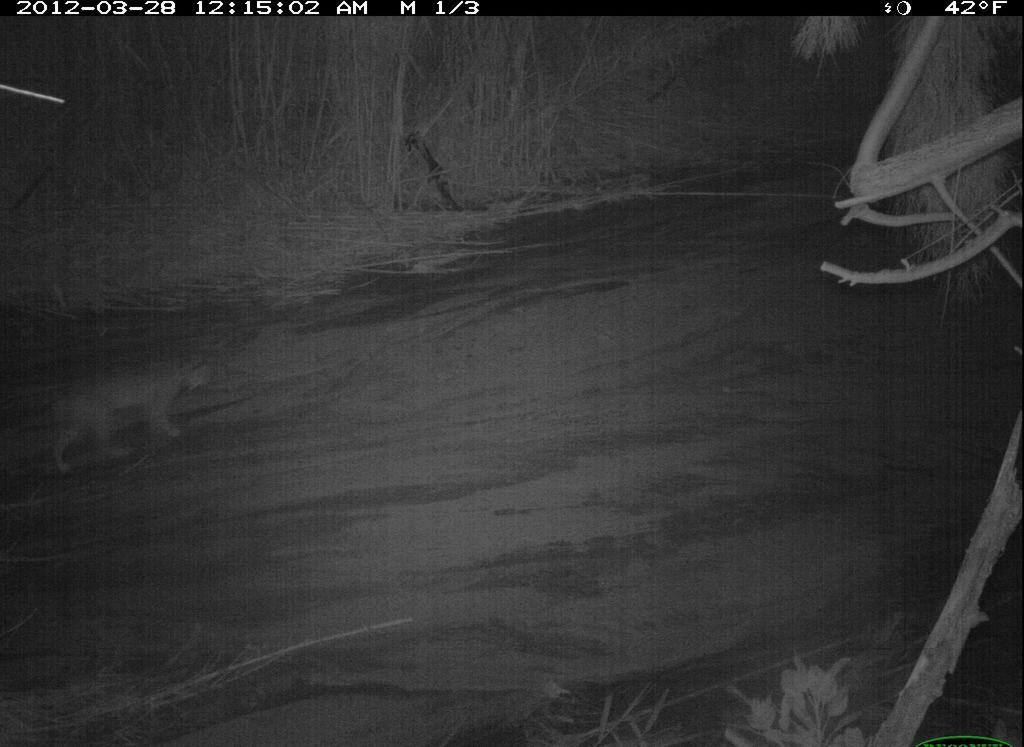bobcat: (45, 349, 218, 472)
